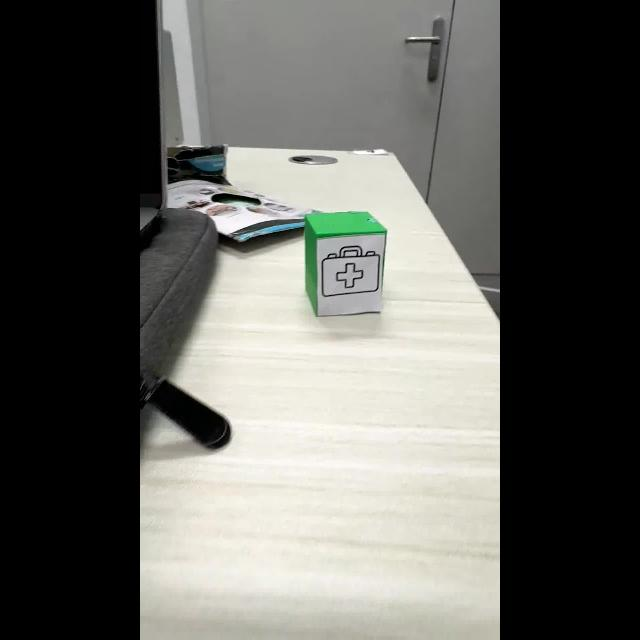Medkit: (321, 245, 380, 298)
